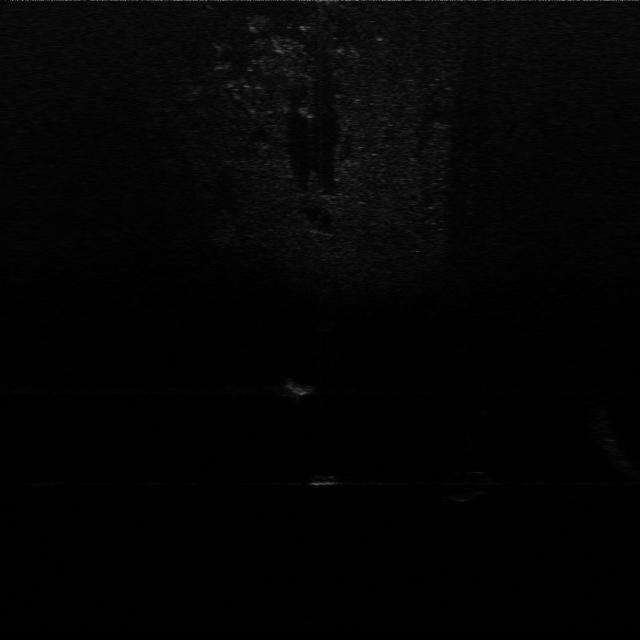cube: (307, 470, 349, 490)
square cage: (282, 373, 324, 399)
tyre: (447, 464, 504, 504)
